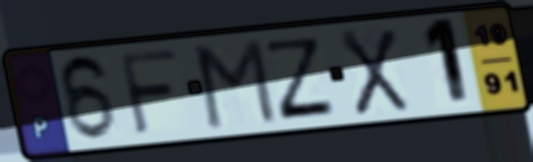1: (420, 14, 475, 110)
6: (57, 51, 124, 147)
F: (115, 47, 181, 138)
M: (192, 36, 280, 132)
X: (336, 26, 412, 119)
Z: (263, 36, 340, 123)
